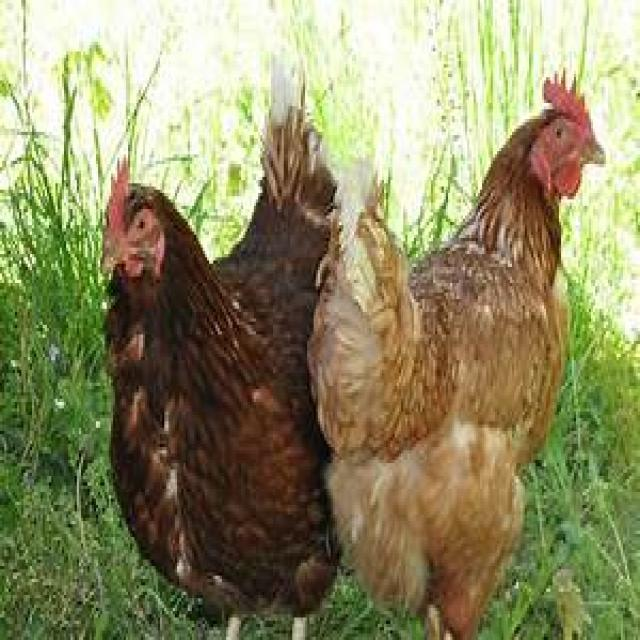animal: (305, 64, 606, 637), (98, 51, 344, 637)
